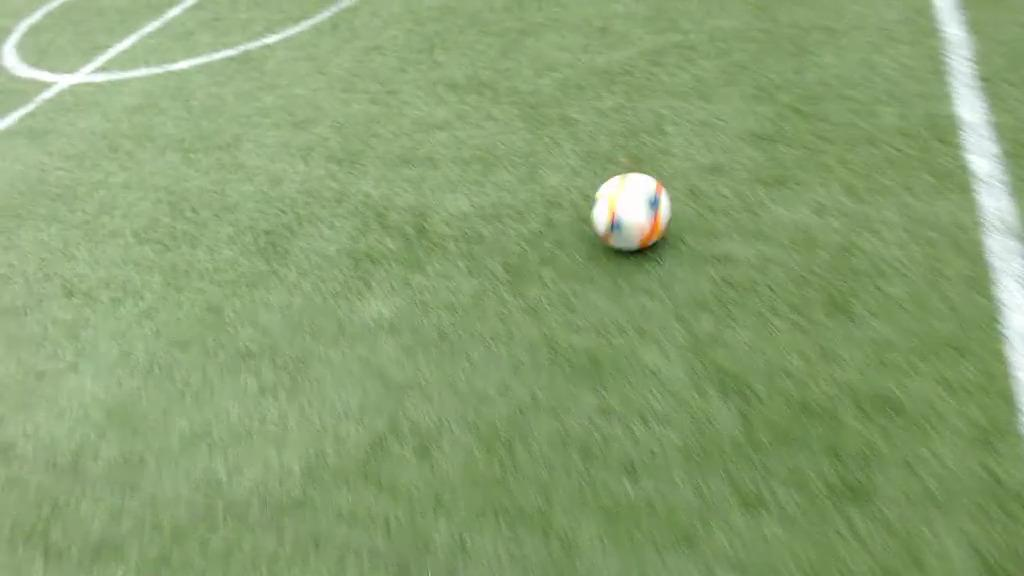ball: (593, 174, 672, 251)
